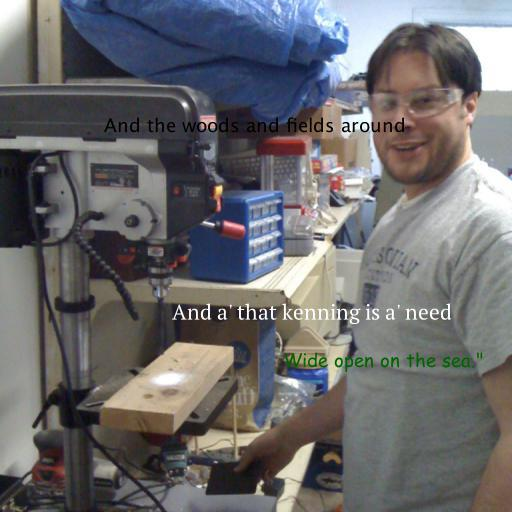Comic Sans MS: (282, 352, 484, 373)
Lucida Grande: (104, 117, 406, 133)
PT Serif: (172, 303, 452, 325)
